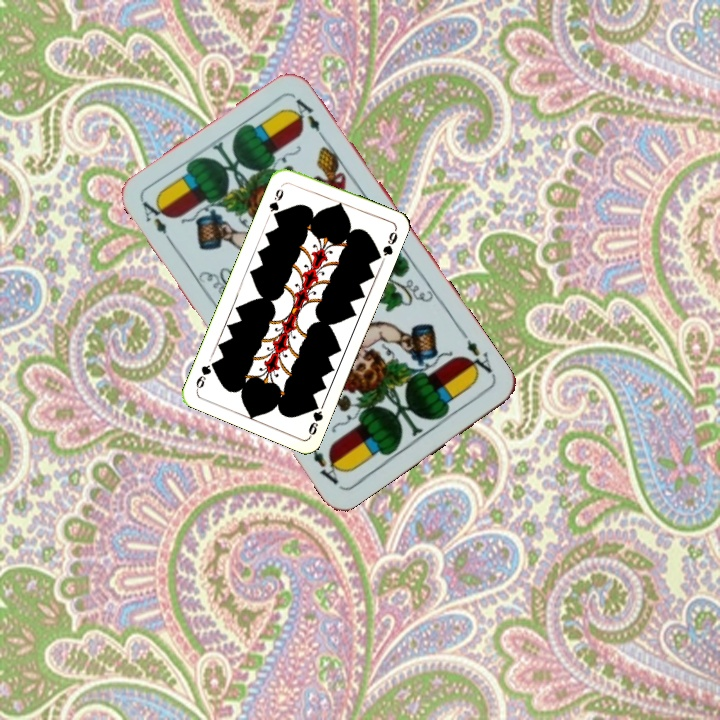EA: (458, 328, 498, 381), (138, 196, 177, 249)
G9: (304, 398, 326, 439), (265, 185, 286, 220)
